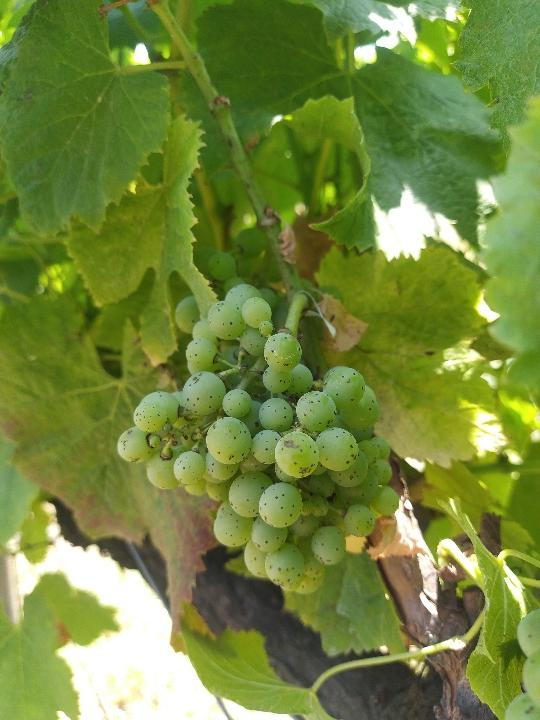grape: (115, 282, 400, 598)
